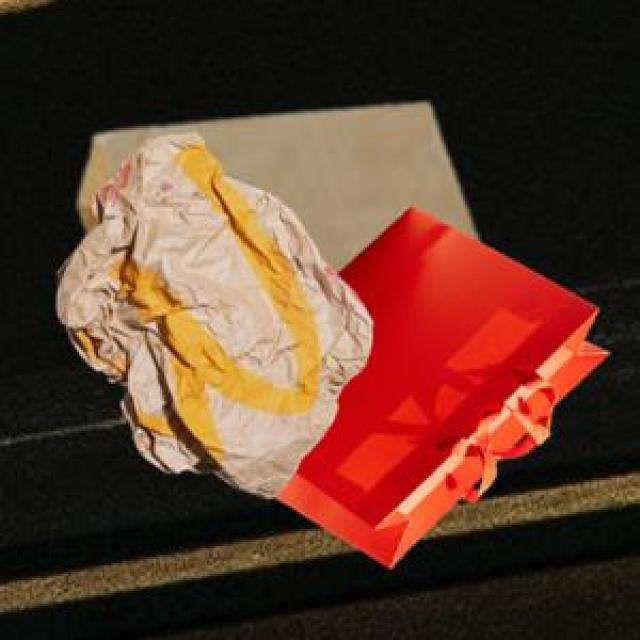paper: (271, 203, 604, 563), (53, 128, 369, 495), (75, 98, 472, 269)
